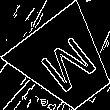M_SE: (31, 29, 100, 97)
